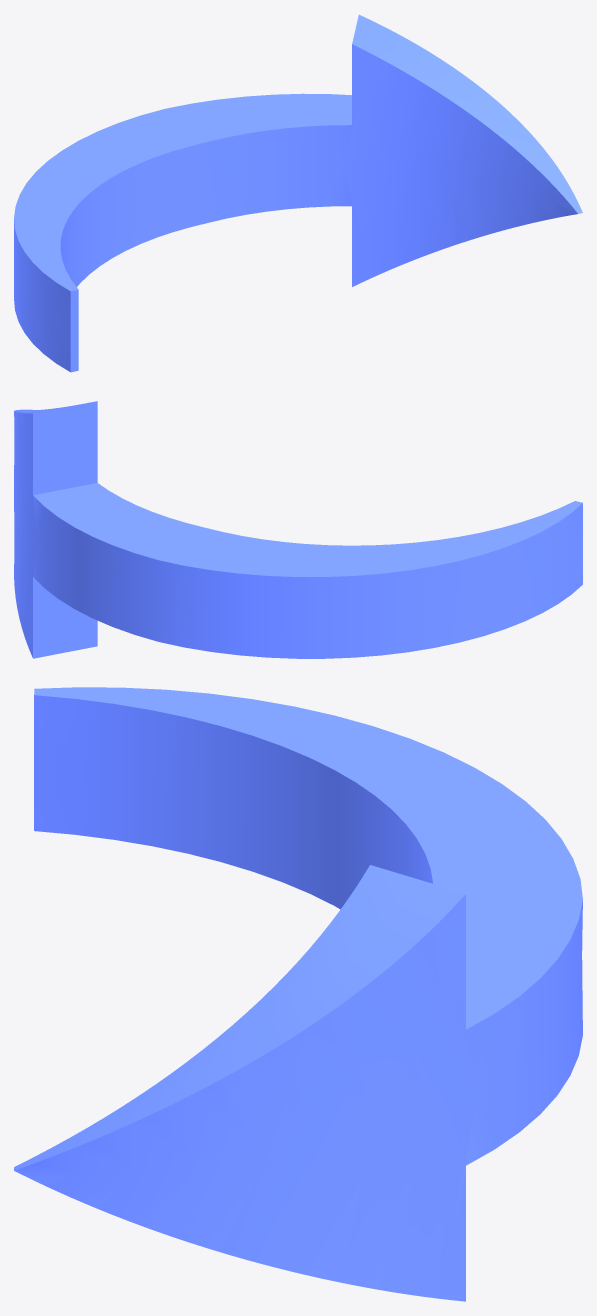
The model's file is anno_arrow_rotate_cw.glb.
The picture shows the model from 3 angles, top to bottom: view 1: azimuth 30°, elevation 25°; view 2: azimuth 150°, elevation 25°; view 3: azimuth 270°, elevation 25°; orthographic projection. The views are drawn at different scales.
Parts seen in each view (by area): view 1: anno_arrow_rotate_cw; view 2: anno_arrow_rotate_cw; view 3: anno_arrow_rotate_cw.
Part boxes in pixels (bbox=[...]): anno_arrow_rotate_cw: bbox=[14, 14, 582, 372]; anno_arrow_rotate_cw: bbox=[14, 401, 582, 658]; anno_arrow_rotate_cw: bbox=[14, 687, 582, 1301].
Size of the model in its own units: 0.132 by 0.06 by 0.0759.
